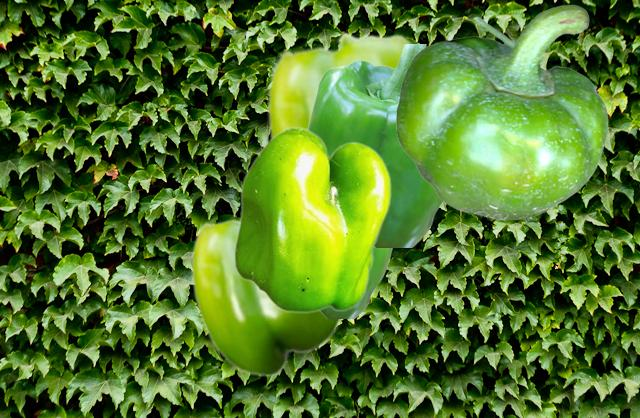bell_pepper: (396, 4, 607, 219), (233, 126, 390, 312), (307, 44, 443, 246), (191, 216, 344, 376), (267, 31, 415, 140), (320, 247, 393, 317)
